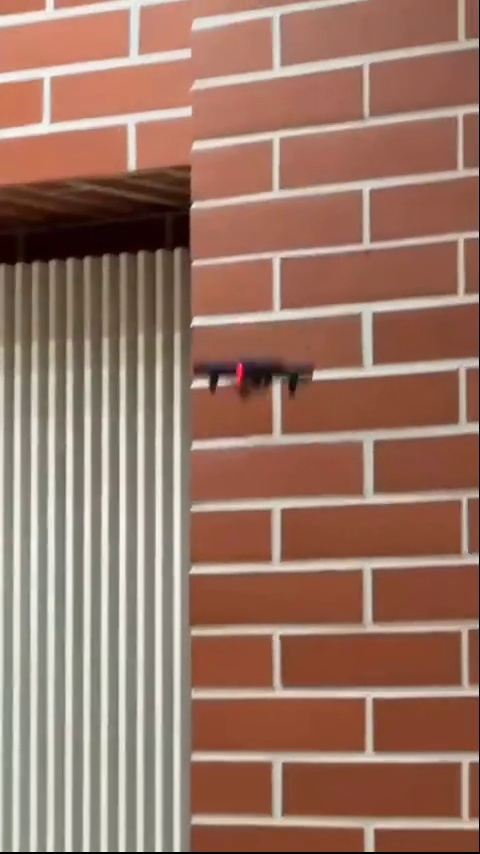drone: (196, 354, 317, 393)
